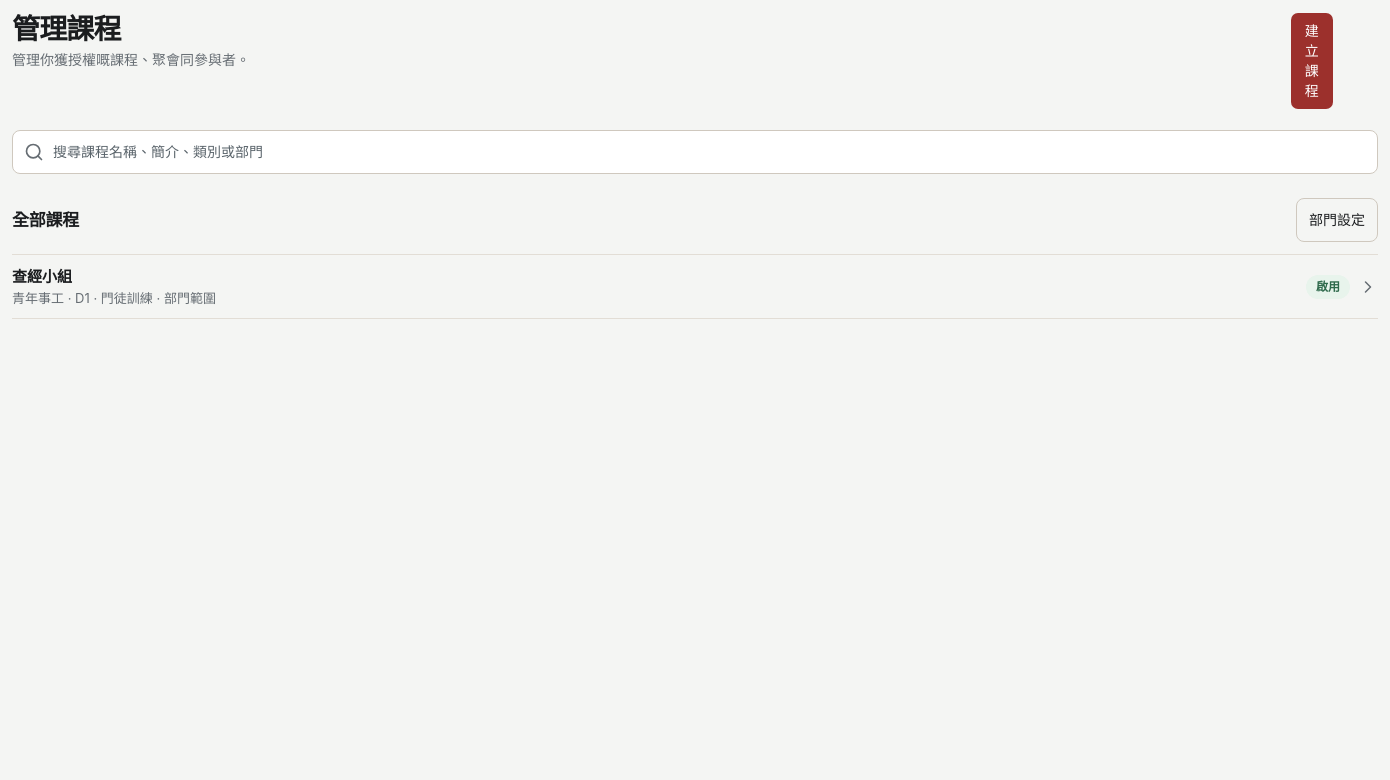
Test case: Programs management boundary › restores the directory search and focuses the selected row after Back
Type "查經" into the search field named "搜尋可管理課程" at (695, 152), box [12,130,1378,174]
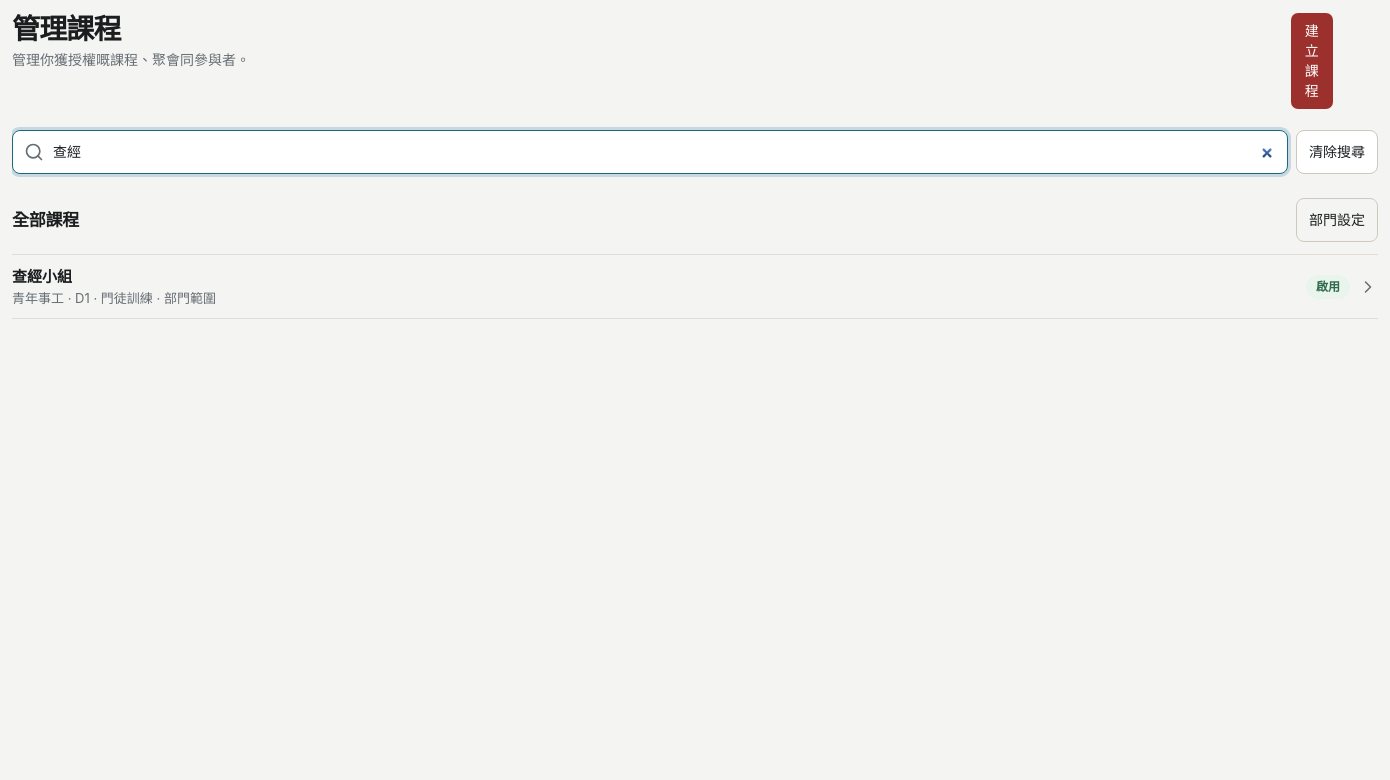
Click the link "查經小組 青年事工 · D1 · 門徒訓練 · 部門範圍 啟用" at (42, 276), box [12,255,1378,319]
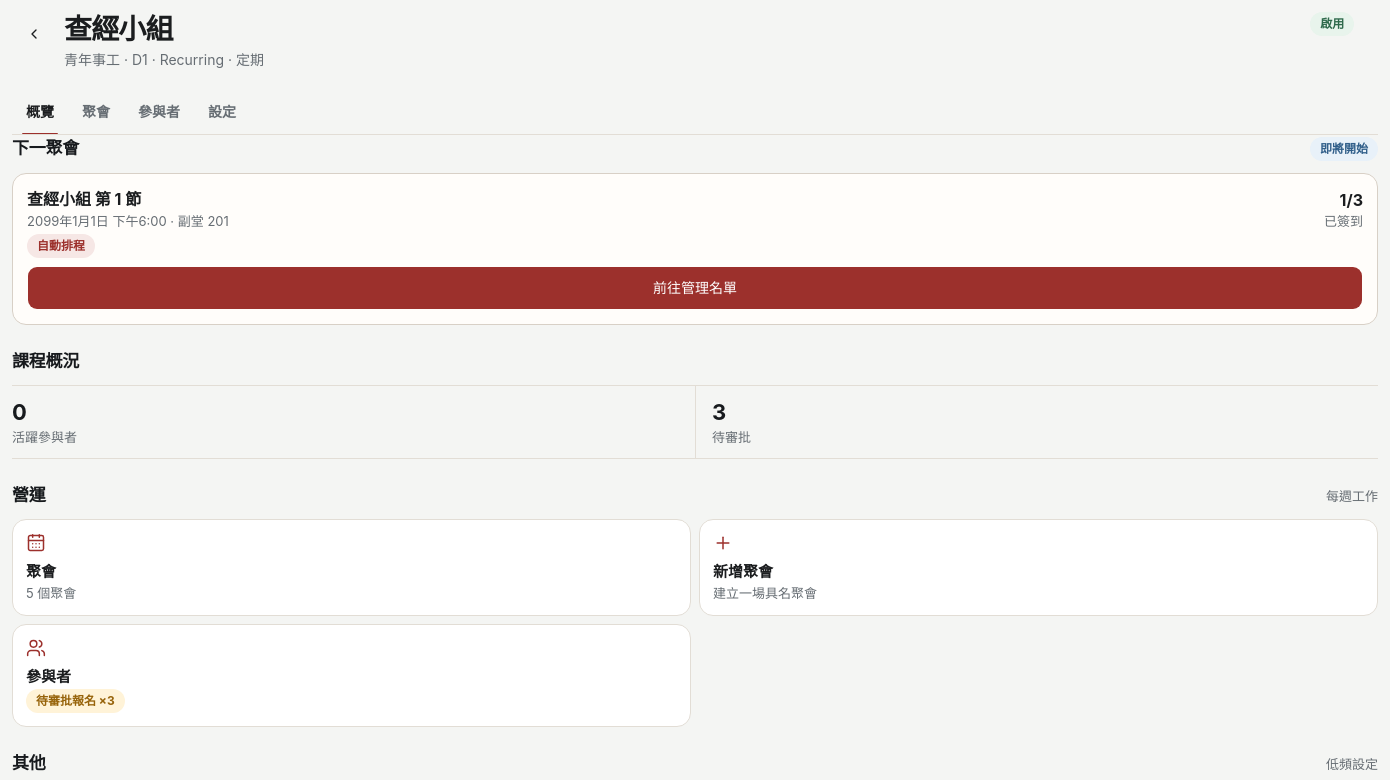
Now the heading "查經小組" is shown, box [64,12,173,46]
Click the link named "返回管理課程目錄" at (34, 34), box [26,26,42,42]
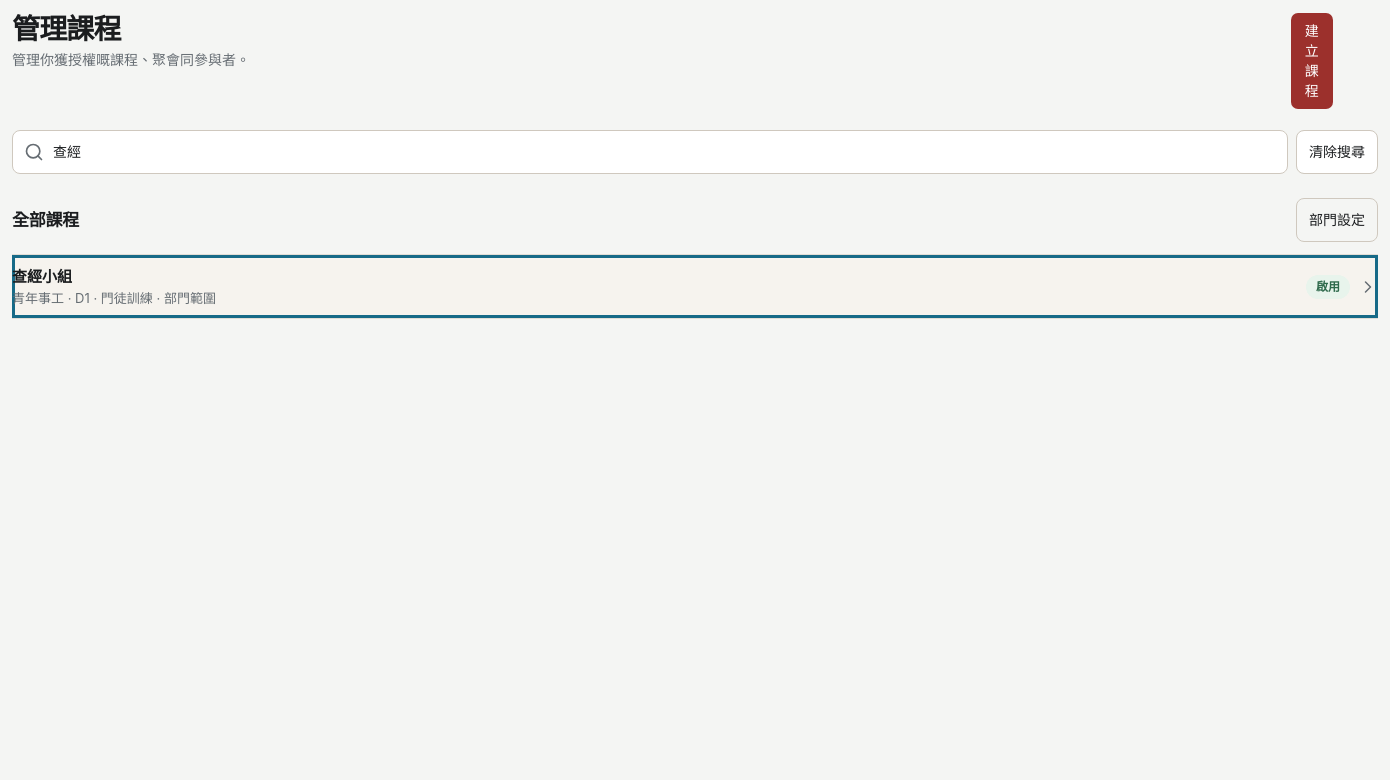
Now the search field named "搜尋可管理課程" holds "查經", box [12,130,1288,174]
